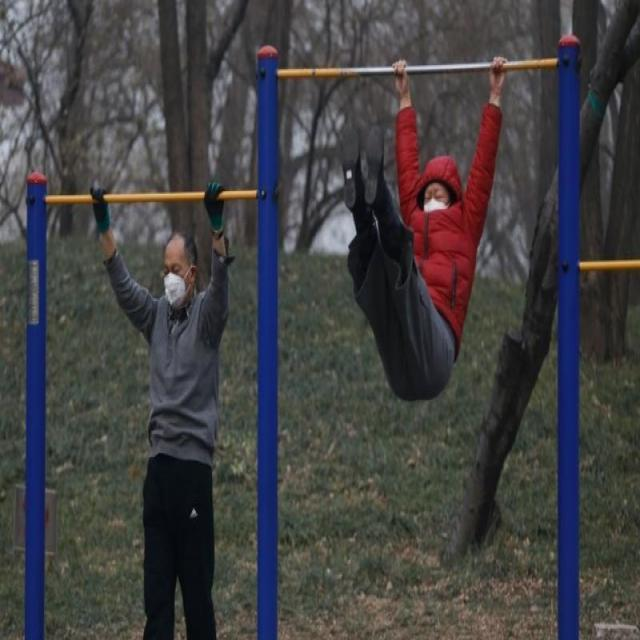mask: (158, 242, 192, 306), (422, 185, 448, 211)
